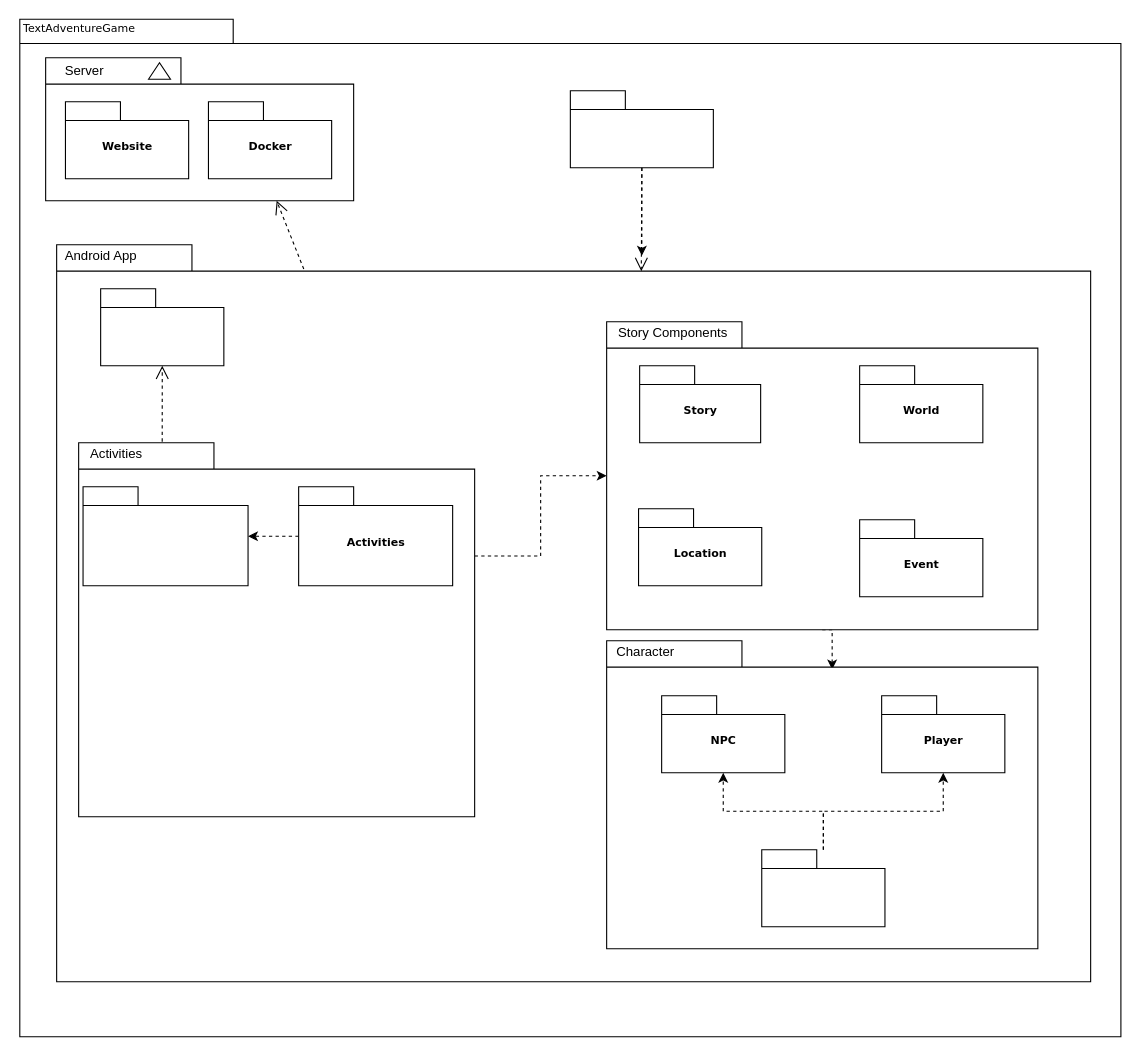
Some shapes in this 1140 by 1056 pixel diagram are drawn without their labels. The shapes that lost their labels are listed below. From the top down, each one's box as (x1, y1, x2, y2) in pixels, then its label:
(569, 90, 713, 168): User
(100, 288, 224, 366): UI
(82, 486, 248, 586): Updategame
(761, 849, 885, 927): PlayerStats
